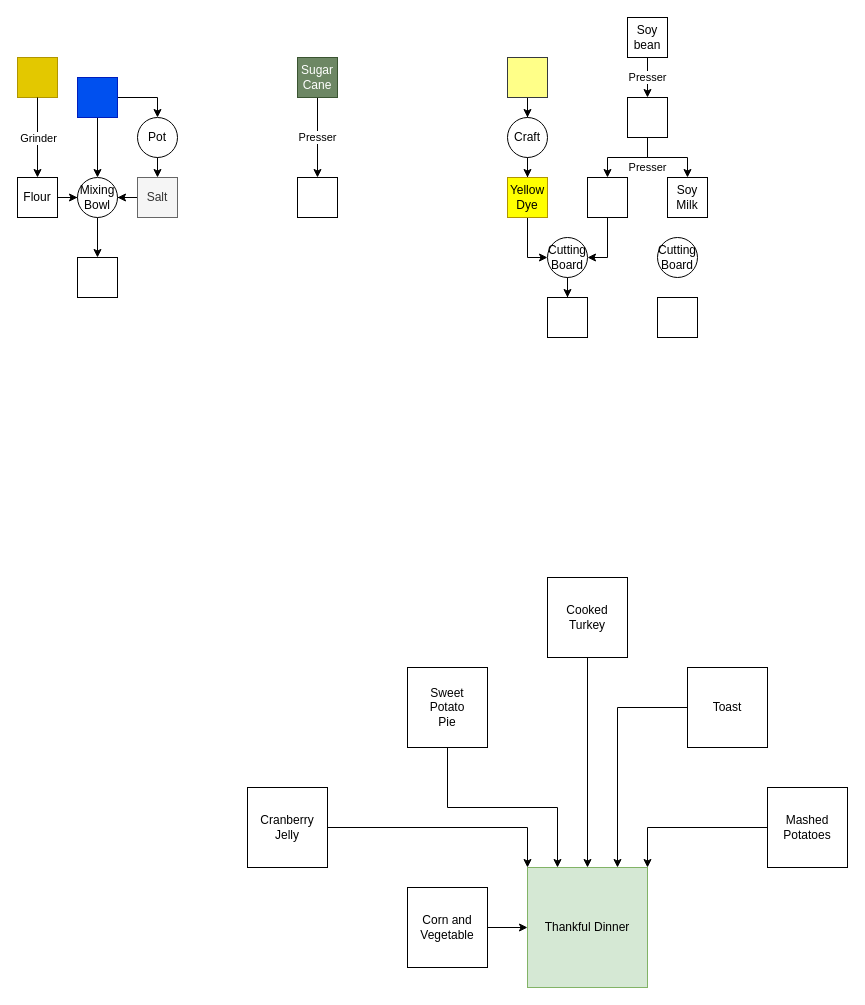
This 865x1005 diagram has some shape labels left out. Here are the shapes that lost their labels. From the top down, the box of each, then its label:
(16, 56, 58, 98): Wheat
(76, 76, 118, 118): Water
(506, 56, 548, 98): Dandelion
(626, 96, 668, 138): Soft Tofu
(296, 176, 338, 218): Sugar
(586, 176, 628, 218): Firm Tofu
(76, 256, 118, 298): Dough
(546, 296, 588, 338): Raw Tofeeg
(656, 296, 698, 338): Raw Torufkey
